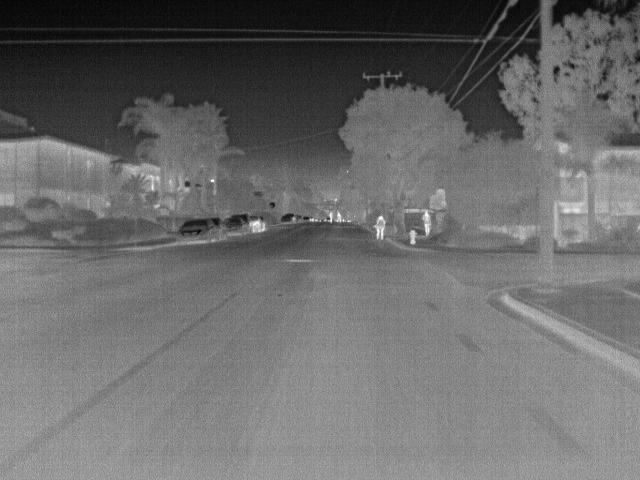car: (176, 218, 216, 244), (222, 216, 251, 234), (246, 214, 266, 234), (285, 213, 298, 224), (280, 214, 291, 224)
person: (374, 214, 387, 241), (419, 209, 432, 235)
